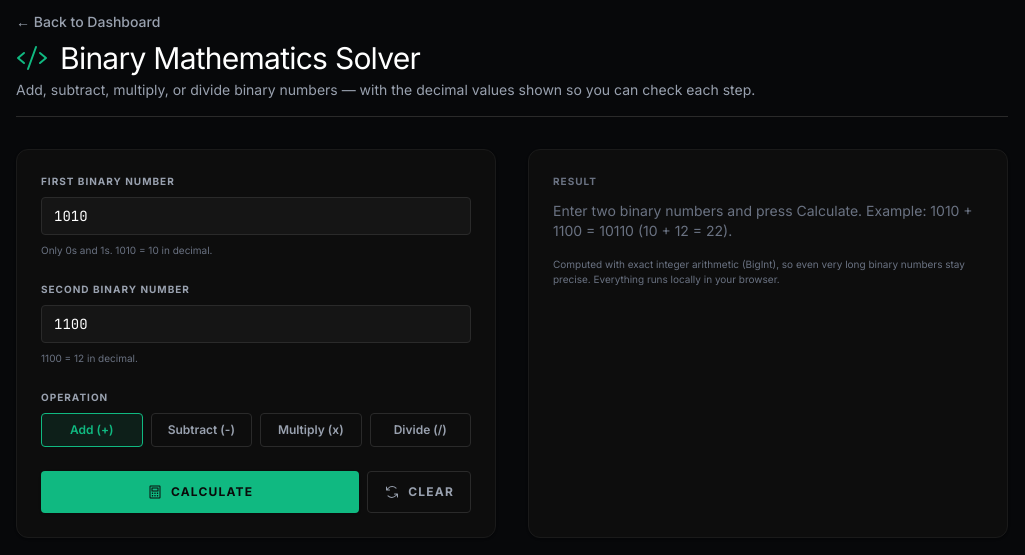
Scenario: BinaryMath › component: default 1010 + 1100 shows 10110 with decimal 22
Step 1. Click the button "Calculate" → (200, 492), box [41,471,359,513]
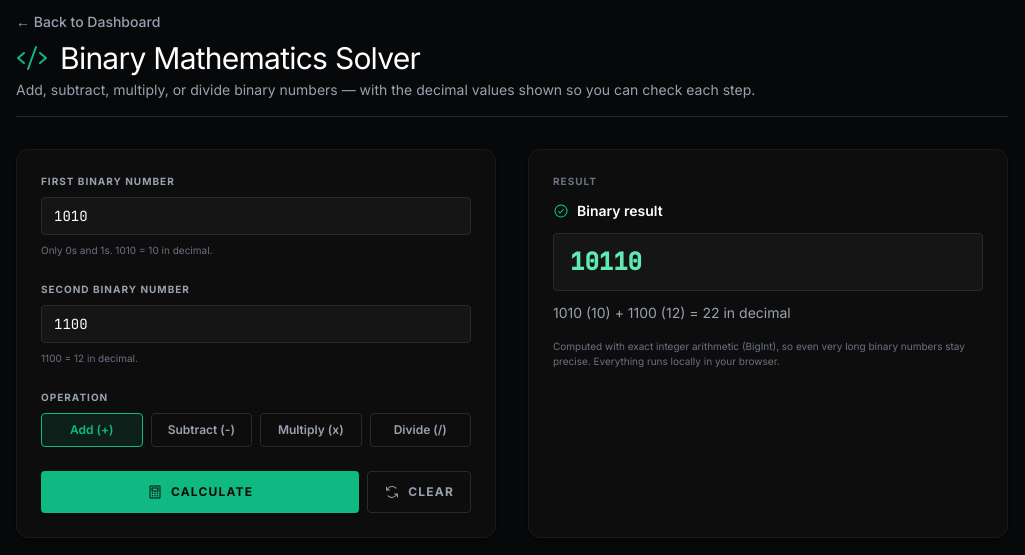
Expected: the text with test id "binary-result" reads "10110", [570,246,642,277]
Now the text "1010 (10) + 1100 (12) = 22 in decimal" is shown, box [553,304,791,321]
